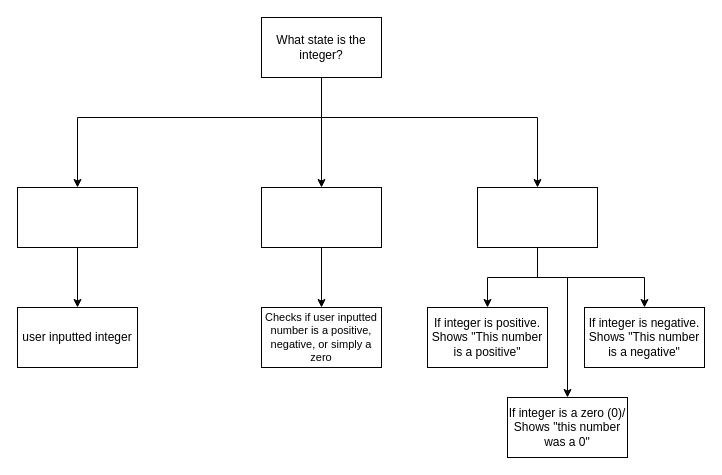
This 722x475 diagram has some shape labels left out. Each missing label, with the centre of its shape:
"Input" goes at point 77,217.
"Output" goes at point 537,217.
"Process" goes at point 321,217.
